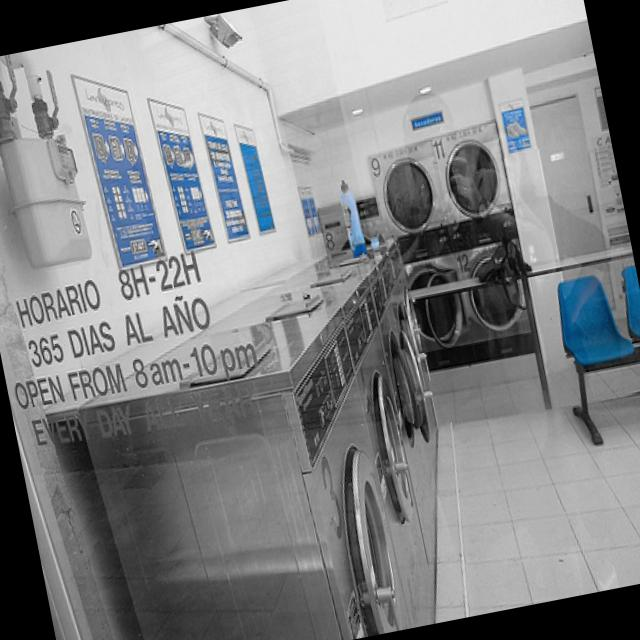billboard: (70, 72, 165, 269), (146, 97, 215, 250), (197, 112, 248, 240), (233, 123, 275, 232), (501, 106, 530, 152)
door opening: (528, 94, 613, 314)
floor -X: (162, 309, 640, 640)
lamp crop: (416, 84, 431, 94), (350, 106, 359, 115)
seats crop: (556, 263, 640, 442)
soap dish: (339, 178, 367, 257)
wall clock: (0, 8, 369, 640), (248, 0, 640, 364)
washing machines: (77, 235, 438, 640), (366, 117, 533, 372)
